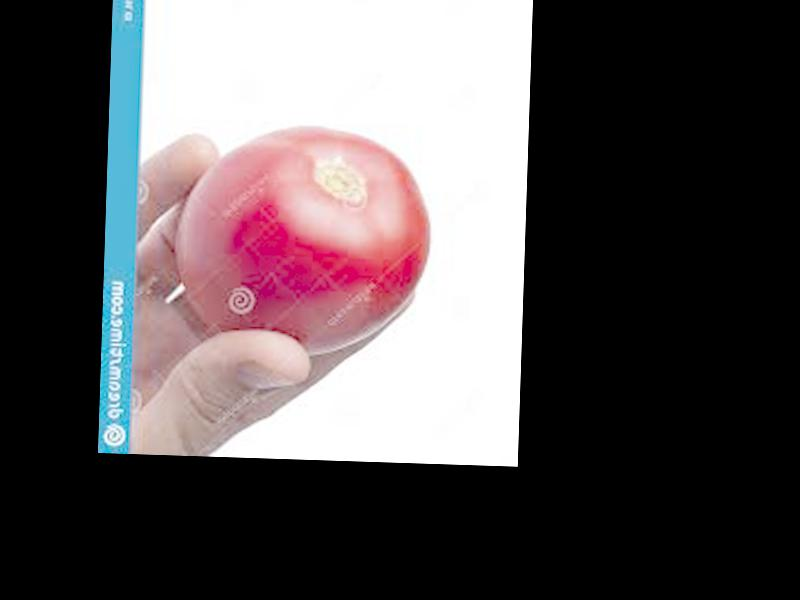Tomato: (173, 123, 433, 359)
